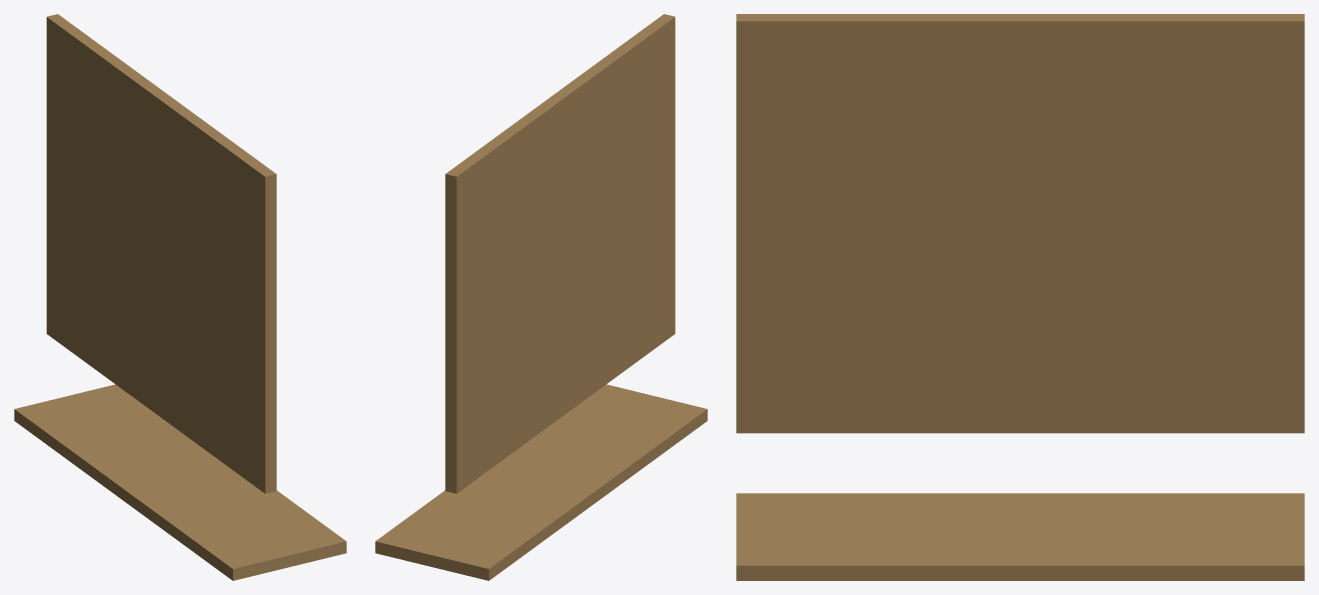
The model's file is anteparo_C.glb.
The picture shows the model from 3 angles, left to right: view 1: azimuth 30°, elevation 25°; view 2: azimuth 150°, elevation 25°; view 3: azimuth 270°, elevation 25°; orthographic projection. The views are drawn at different scales.
Parts seen in each view (by area): view 1: painel_fundo_C, pe_fundo_C; view 2: painel_fundo_C, pe_fundo_C; view 3: painel_fundo_C, pe_fundo_C.
Boxes of the visible parts, x1,y1,x2,y2 form: painel_fundo_C: [46, 14, 276, 493]; pe_fundo_C: [14, 384, 346, 580]; painel_fundo_C: [445, 14, 675, 493]; pe_fundo_C: [375, 384, 707, 580]; painel_fundo_C: [736, 14, 1304, 433]; pe_fundo_C: [736, 493, 1304, 580].
Size of the model in its own units: 0.03 by 0.1 by 0.1.
